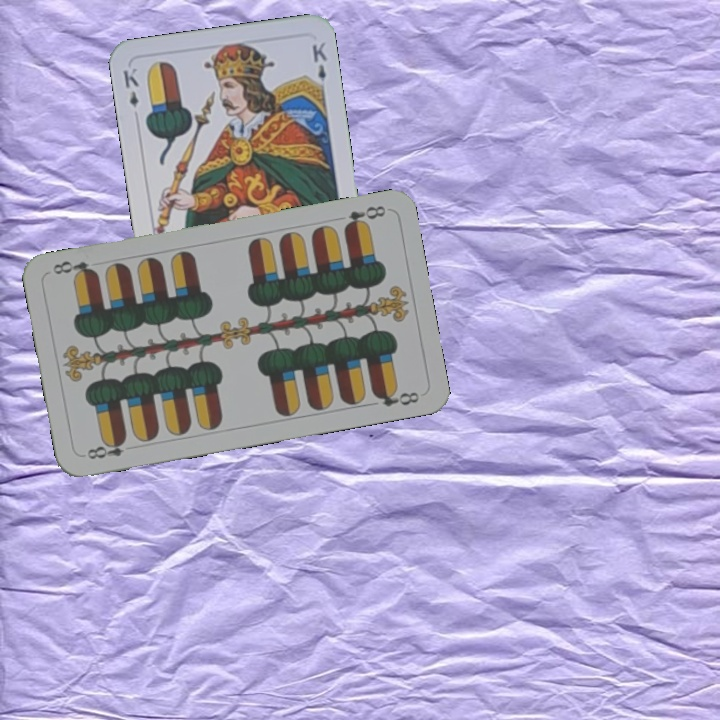E8: (339, 201, 388, 232), (83, 434, 129, 462)
EK: (119, 64, 142, 123)
